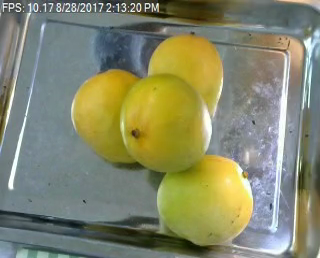Mango: (121, 74, 212, 172), (155, 156, 251, 247), (71, 69, 149, 168), (148, 32, 223, 126)
